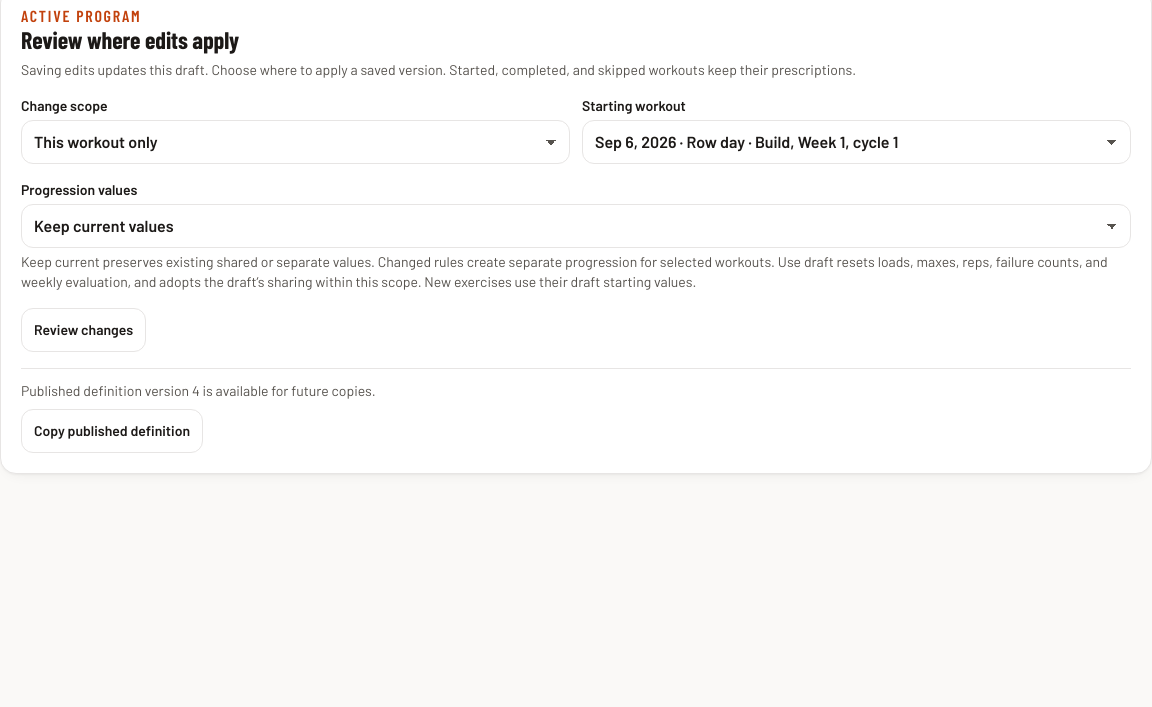
active program change review and recovery › shows affected workouts, protected history, state changes, and saves again before apply
What coordinates should you click on to do the following:
click the button "Review changes"
I would click on:
 (84, 330)
Its box is [21, 308, 146, 352].
(page scrolled)
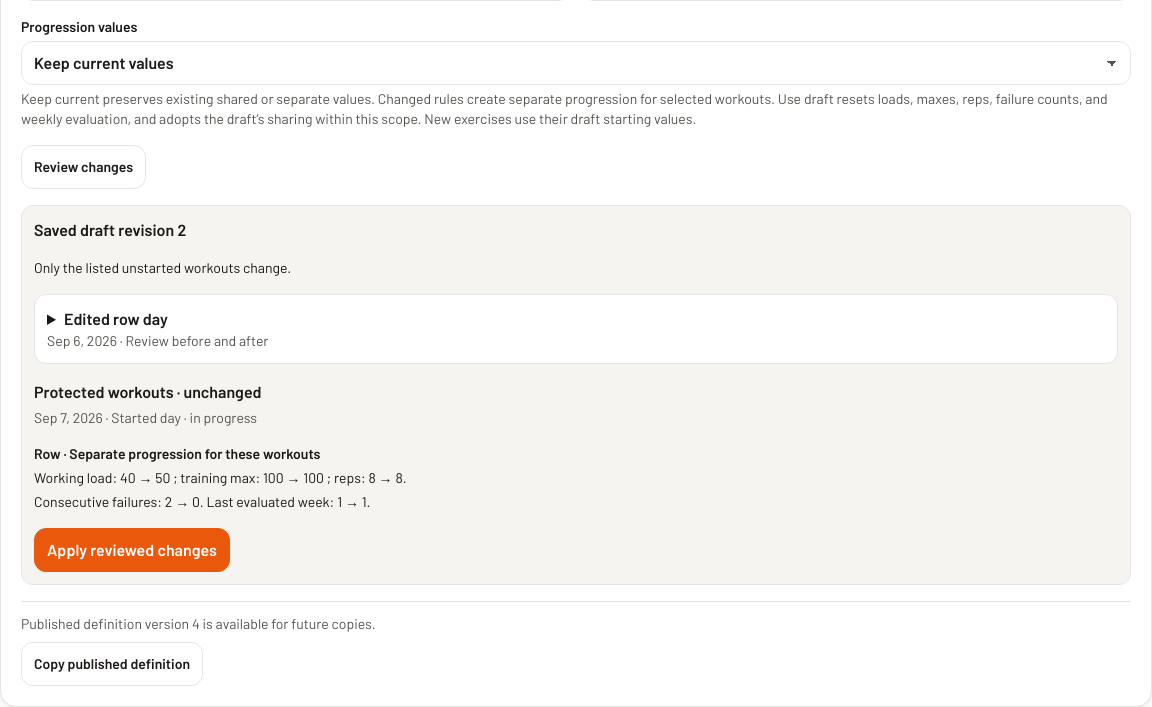
Expected: the button "Apply reviewed changes" is shown
Expected: the text "Edited row day" is shown, [64, 309, 168, 328]
Expected: the list item "Sep 7, 2026 · Started day · in progress" is shown, [34, 409, 257, 426]
What coordinates should you click on to do the following:
click the button "Apply reviewed changes"
I would click on:
 (132, 550)
Its box is [34, 528, 230, 572].
(page scrolled)
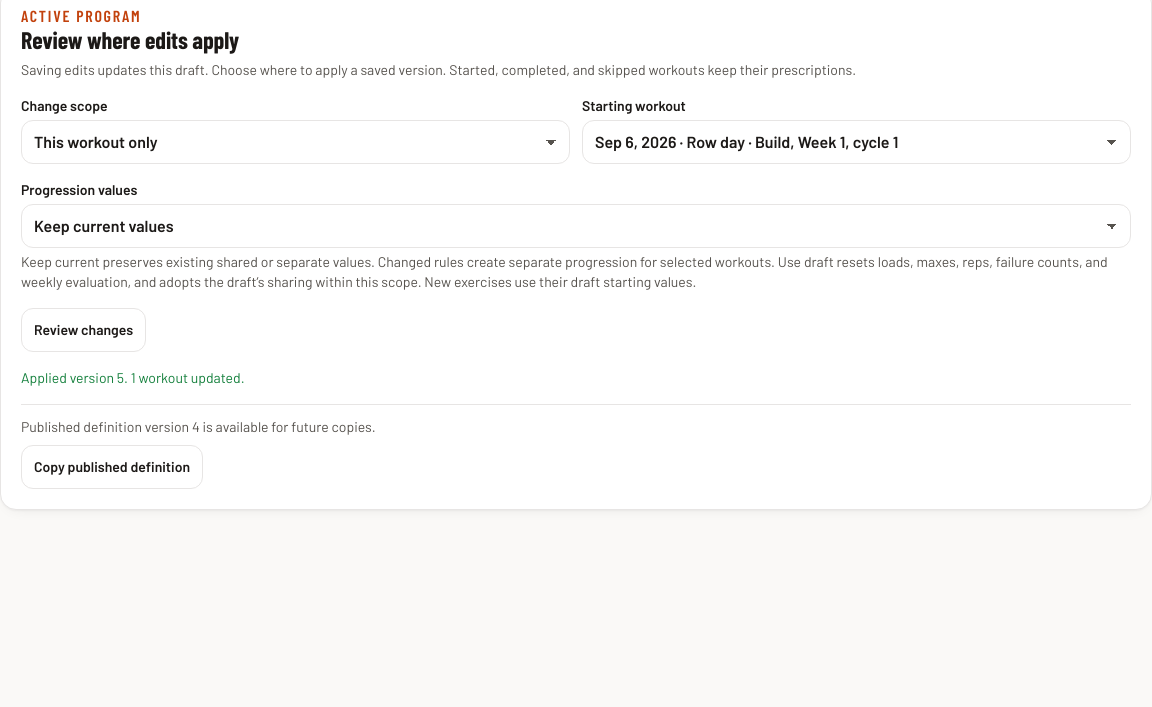
Expected: the text "Applied version 5. 1 workout updated." is shown, [21, 369, 245, 386]
